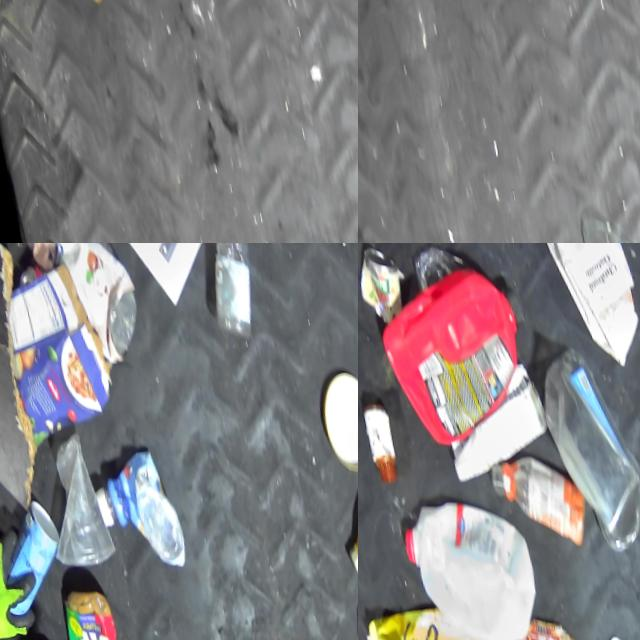can: (43, 571, 119, 640)
milk_jug: (396, 488, 539, 640)
non_white_jug: (368, 259, 535, 451)
plastic_bottle: (483, 454, 589, 562), (187, 243, 268, 346)
